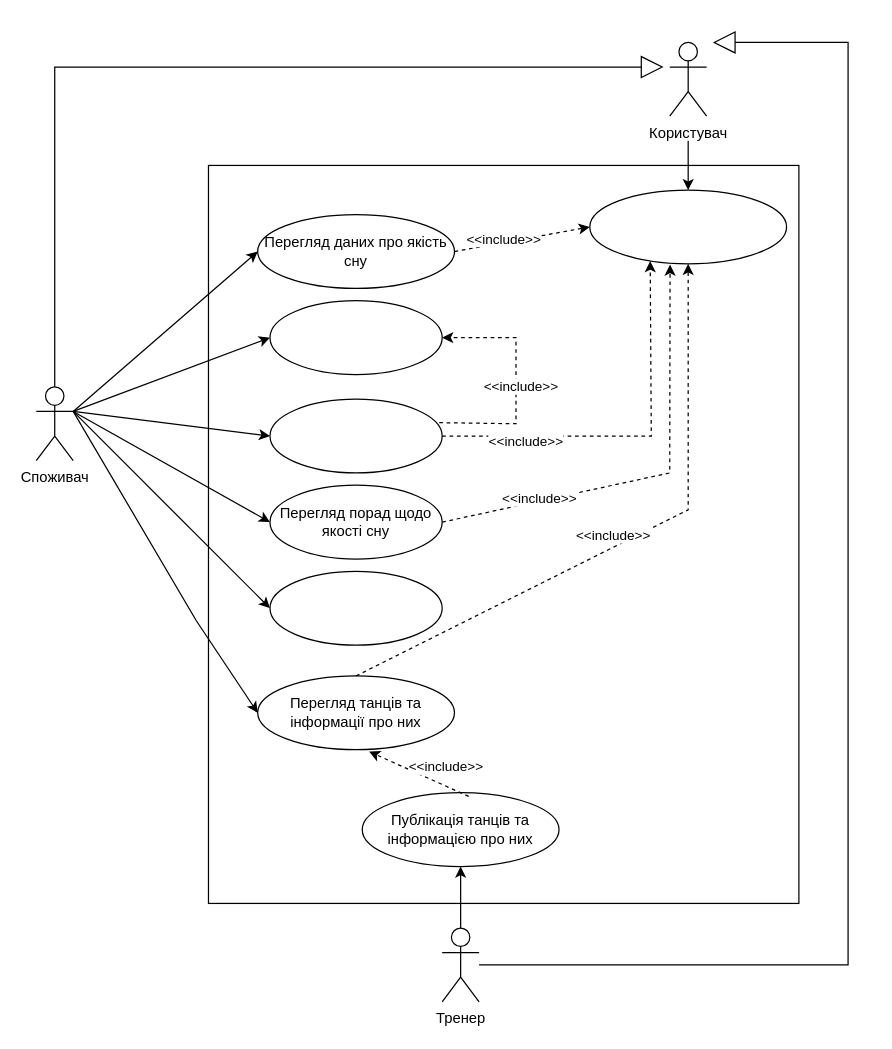
Some shapes in this 892 by 1049 pixel diagram are drawn without their labels. Here are the shapes that lost their labels. From the top down, the box of each, then its label:
(589, 189, 787, 264): Авторизація
(269, 300, 442, 375): Запис даних про сон
(269, 398, 442, 473): Перегляд статистики своїх снів
(269, 570, 442, 645): Перегляд інформації про безпеку праці
